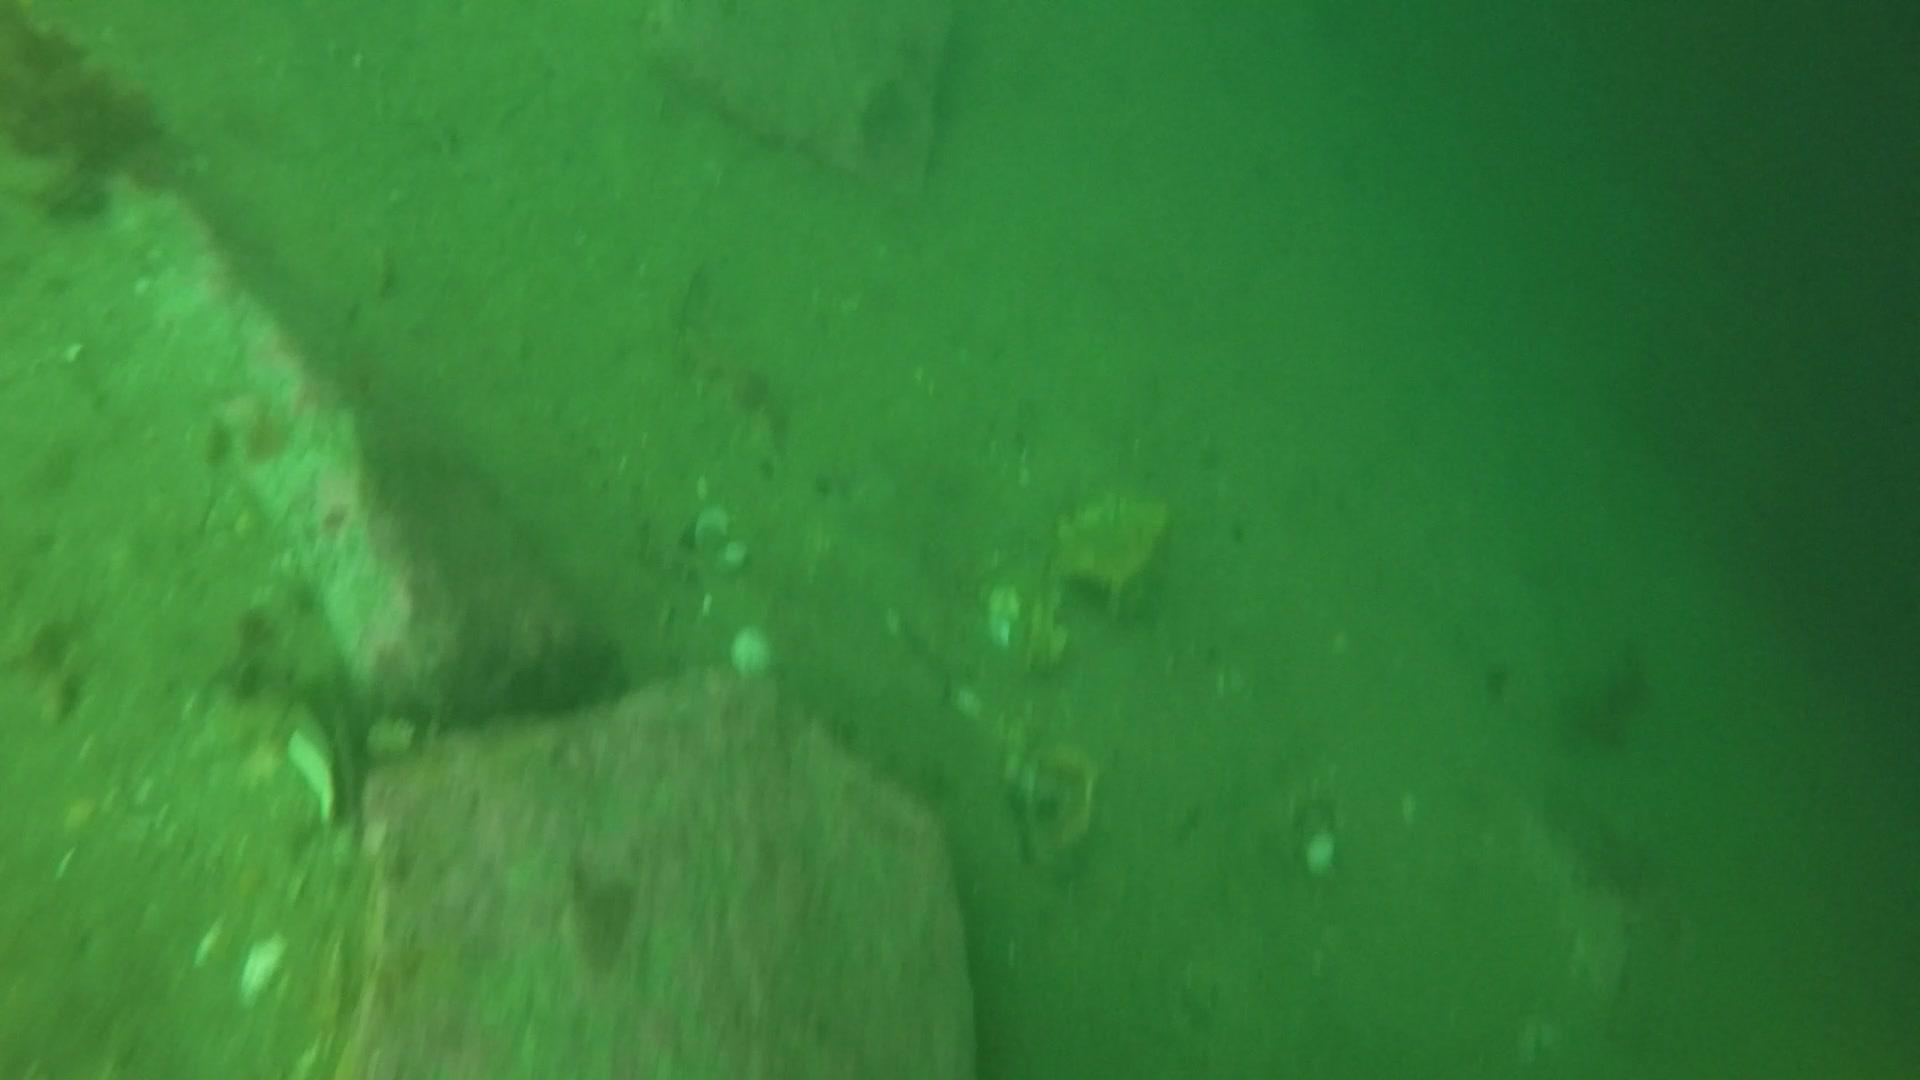holothurian: (1503, 793, 1646, 1059)
